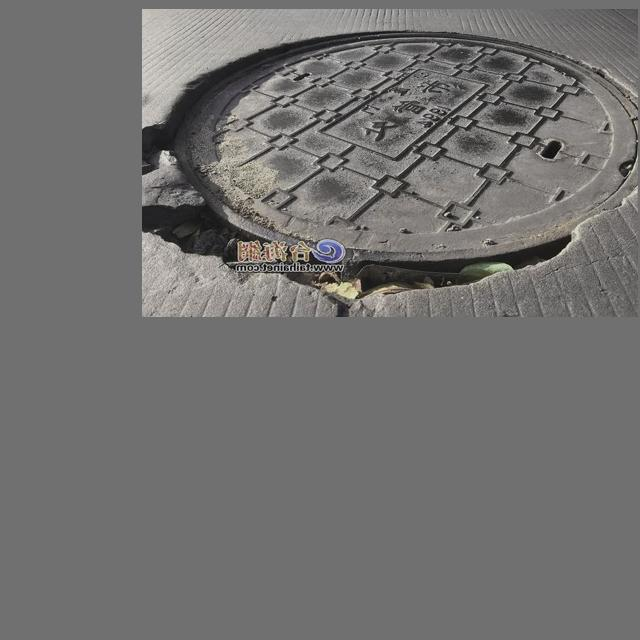circle: (153, 28, 626, 303)
